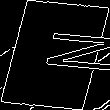N_W: (7, 31, 103, 79)
